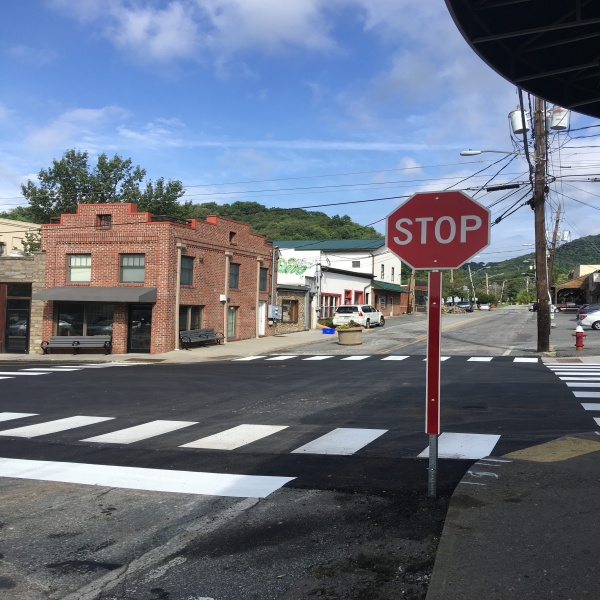stop: (385, 185, 494, 275)
